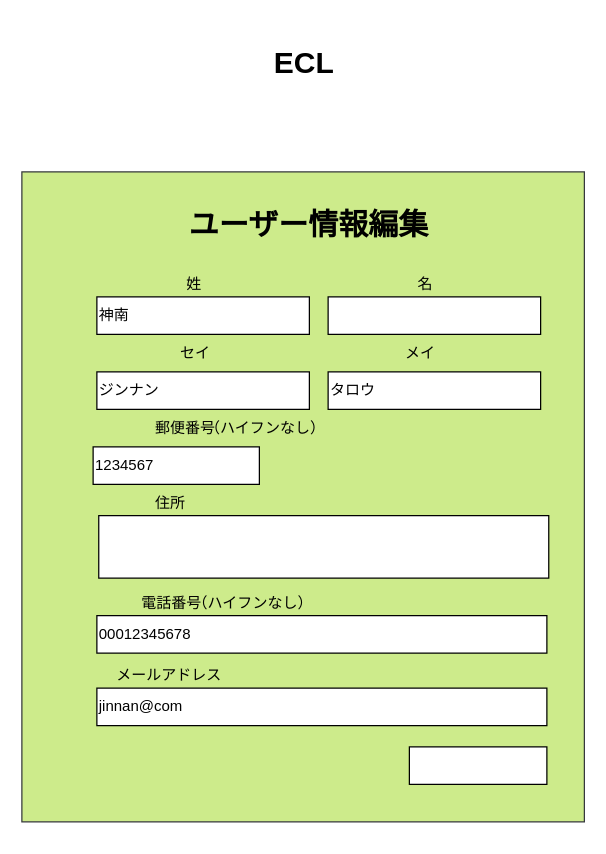
This 606x854 diagram has some shape labels left out. The shapes that lost their labels are listed below. From the top down, each one's centre as x and y in pixels, then its label:
At point (434, 315): "太郎".
At point (323, 546): "東京都渋谷区神南1-19-11 パークウェースクエア2 4階".
At point (477, 765): "編集する".
